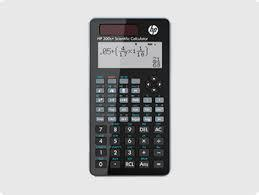Calculator: (81, 12, 178, 180)
